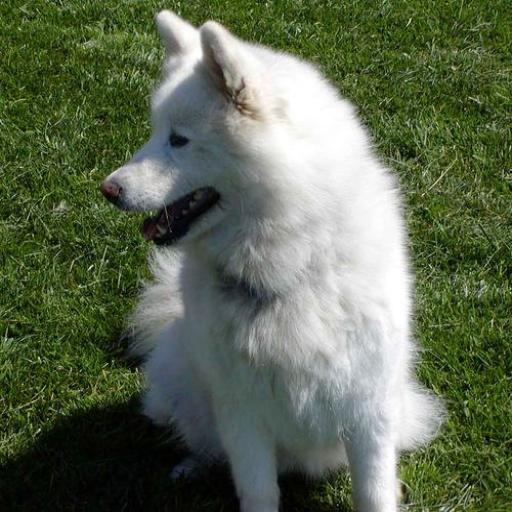dog_face: (100, 17, 255, 260)
